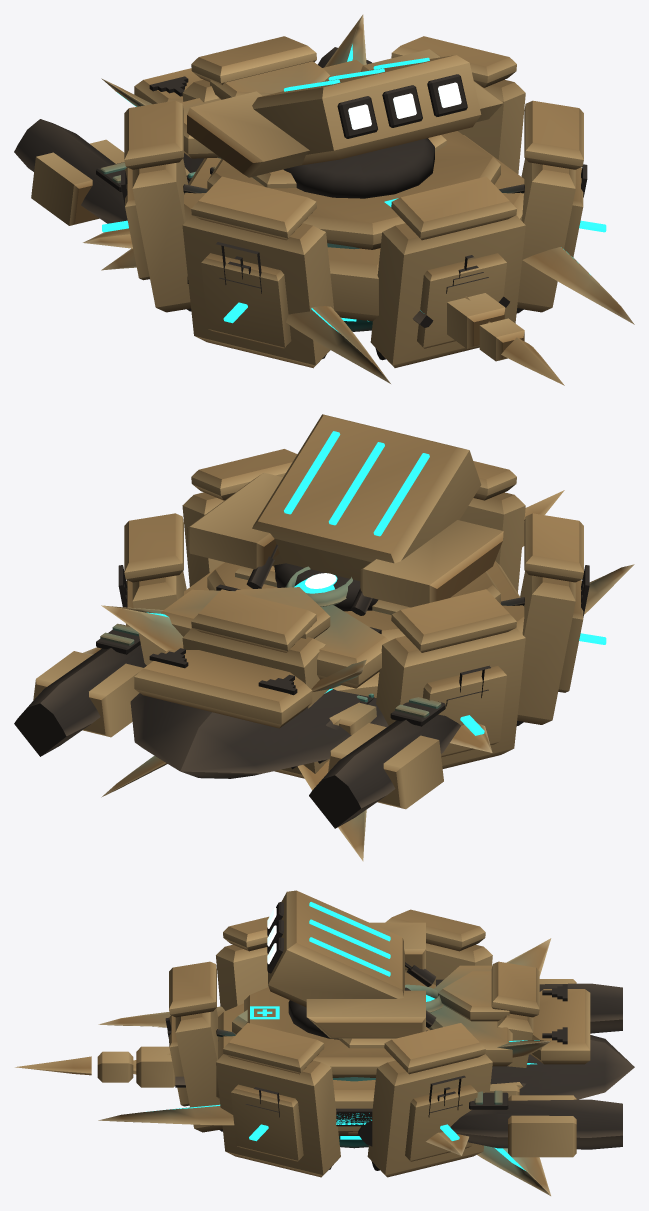
The model's file is nahara-craft.glb.
3 views of the same model, one above another, from view 1: azimuth 30°, elevation 25°; view 2: azimuth 150°, elevation 25°; view 3: azimuth 270°, elevation 25° (orthographic). The views are drawn at different scales.
Parts seen in each view (by area): view 1: nahara_relic, nahara_battery, nahara_sunspike, nahara_obelisk, nahara_hunter; view 2: nahara_sunspike, nahara_relic, nahara_battery, nahara_obelisk, nahara_skimmer, nahara_hunter; view 3: nahara_relic, nahara_sunspike, nahara_battery, nahara_obelisk, nahara_hunter.
Boxes of the visible parts, x1,y1,x2,y2 form: nahara_relic: (102,36,606,368); nahara_battery: (184,49,524,321); nahara_sunspike: (14,47,634,385); nahara_obelisk: (101,14,490,323); nahara_hunter: (83,168,509,327); nahara_sunspike: (14,490,634,828); nahara_relic: (118,449,606,778); nahara_battery: (184,414,524,697); nahara_obelisk: (101,605,366,861); nahara_skimmer: (318,693,376,763); nahara_hunter: (83,647,492,769); nahara_relic: (165,909,539,1177); nahara_sunspike: (15,965,634,1157); nahara_battery: (216,890,443,1135); nahara_obelisk: (133,938,551,1195); nahara_hunter: (175,1076,522,1155).
Size of the model in its own units: 1.28 by 0.8433 by 2.08.
